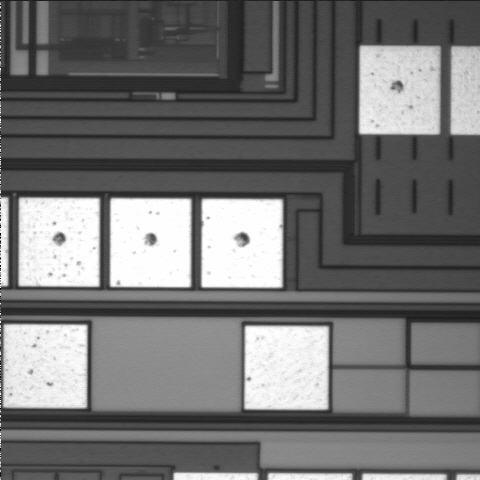pad: (201, 199, 283, 288), (19, 198, 100, 287), (110, 198, 191, 287), (244, 326, 329, 410), (359, 46, 440, 134), (3, 324, 87, 408)
